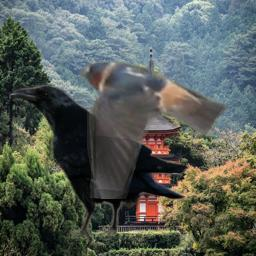Crow: (9, 83, 189, 246)
Swallow: (79, 55, 230, 199)
